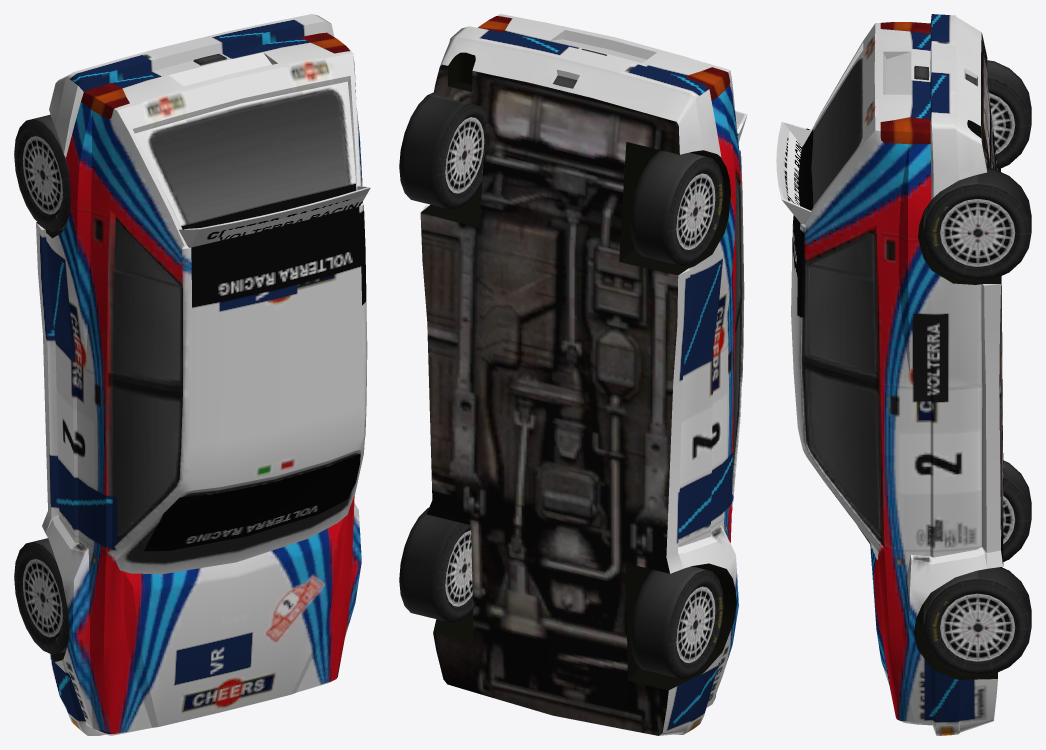
The model's file is lancia_delta_volterra.obj.
3 renders of one model, left to right at view 1: azimuth 30°, elevation 25°; view 2: azimuth 150°, elevation 25°; view 3: azimuth 270°, elevation 25°, orthographic. The views are drawn at different scales.
Visible parts, largest first — view 1: Lancia_Delta, L_front_wheel_geo_#370500.003, L_front_wheel_geo_#370500.004, alettone_geo_#370553; view 2: Lancia_Delta, L_front_wheel_geo_#370500.003, L_front_wheel_geo_#370500.004, L_front_wheel_geo_#370500.002, L_front_wheel_geo_#370500.001; view 3: Lancia_Delta, L_front_wheel_geo_#370500.002, L_front_wheel_geo_#370500.001, L_front_wheel_geo_#370500.003, L_front_wheel_geo_#370500.004, alettone_geo_#370553.
Part boxes in pixels (<box>): Lancia_Delta: <box>36,14,367,735</box>; L_front_wheel_geo_#370500.003: <box>14,114,70,231</box>; L_front_wheel_geo_#370500.004: <box>14,538,69,654</box>; alettone_geo_#370553: <box>179,185,370,247</box>; Lancia_Delta: <box>420,14,744,735</box>; L_front_wheel_geo_#370500.003: <box>630,150,723,266</box>; L_front_wheel_geo_#370500.004: <box>630,566,723,679</box>; L_front_wheel_geo_#370500.002: <box>399,92,486,210</box>; L_front_wheel_geo_#370500.001: <box>399,507,472,623</box>; Lancia_Delta: <box>791,14,1003,735</box>; L_front_wheel_geo_#370500.002: <box>923,168,1031,281</box>; L_front_wheel_geo_#370500.001: <box>923,567,1031,676</box>; L_front_wheel_geo_#370500.003: <box>987,60,1031,169</box>; L_front_wheel_geo_#370500.004: <box>1003,460,1031,561</box>; alettone_geo_#370553: <box>776,122,811,224</box>.
Bounding box in the file's own units: 1.77 × 3.9 × 1.44.
1 material, 1 textured.
